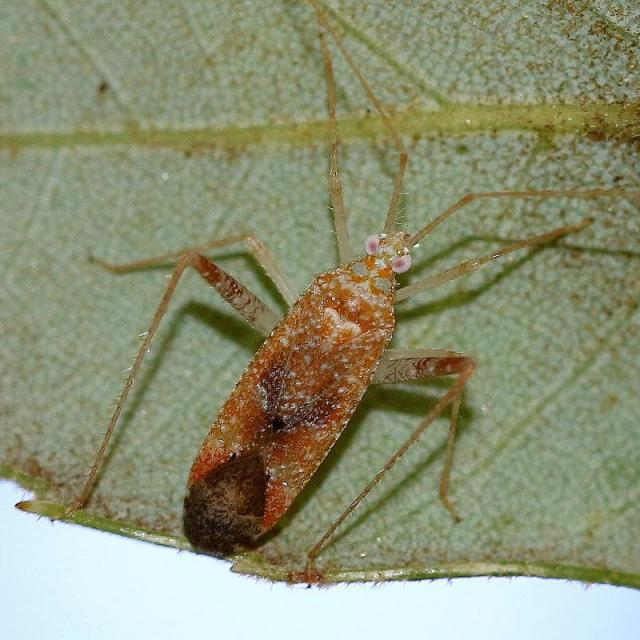Miridae-Adult-: (64, 29, 620, 564)
